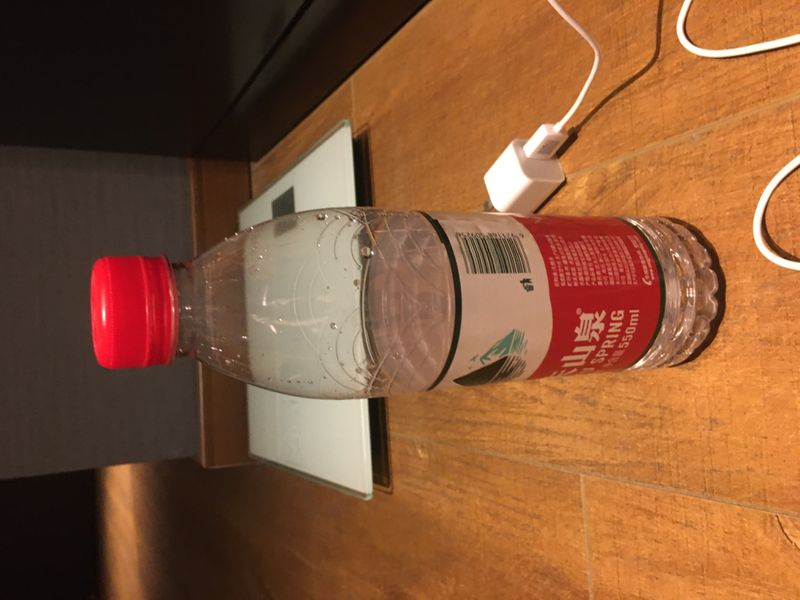5eca67a90202601e8cb8d104: (90, 205, 728, 397)
